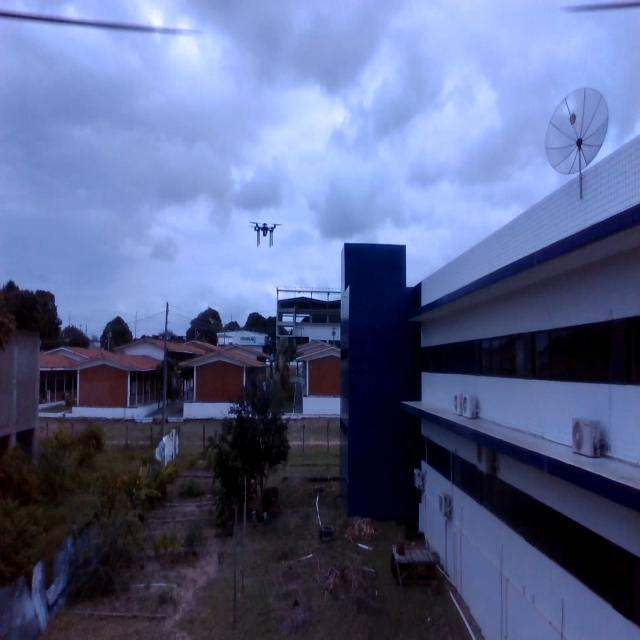-uav-: (246, 200, 284, 258)
